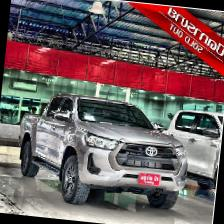NON-EV: (11, 84, 197, 217)
